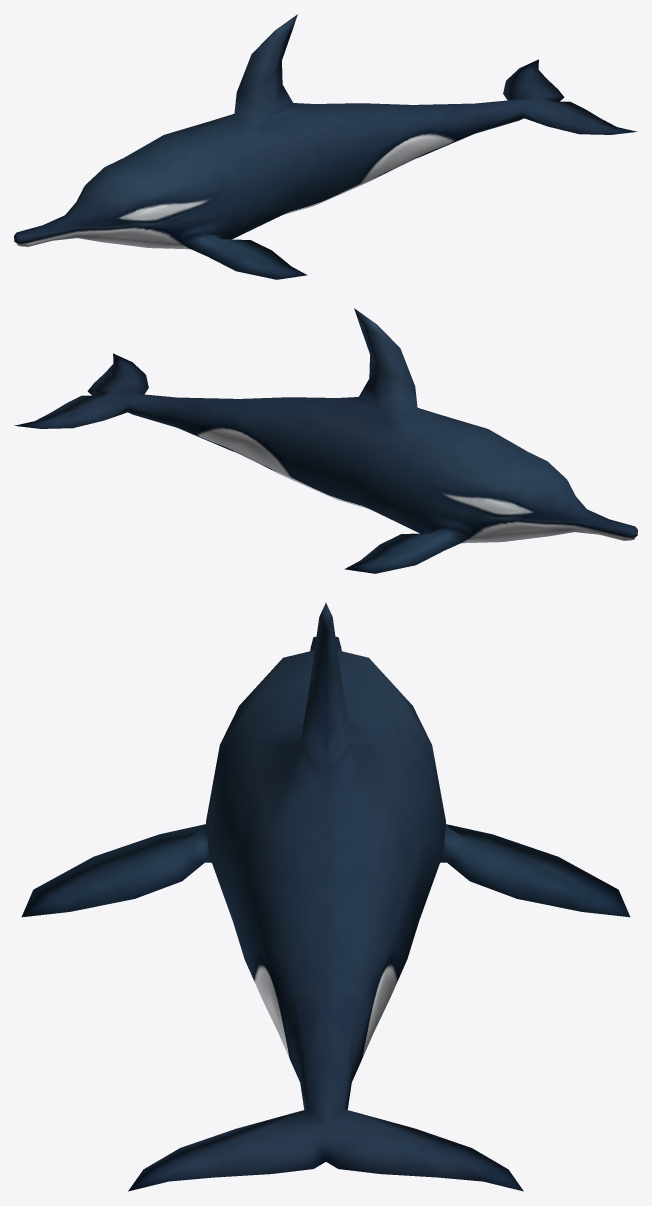
The model's file is f27_hujing.FBX.
3 views of the same model, one above another, from view 1: azimuth 30°, elevation 25°; view 2: azimuth 150°, elevation 25°; view 3: azimuth 270°, elevation 25° (orthographic). The views are drawn at different scales.
Parts seen in each view (by area): view 1: f28_hujing; view 2: f28_hujing; view 3: f28_hujing.
Part boxes in pixels (x1,y1,x2,y2): f28_hujing: (14,14,637,279); f28_hujing: (14,308,637,573); f28_hujing: (21,603,630,1191).
Bounding box in the file's own units: 690 × 228 × 317.
Materials: 1 (1 with a texture image).
